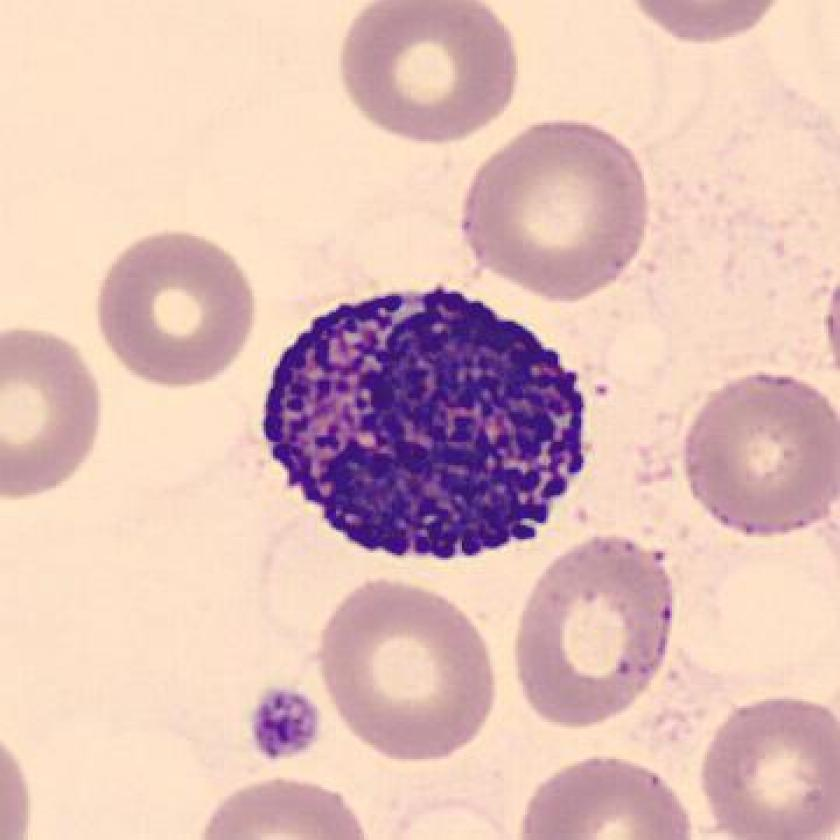basophil: (258, 279, 598, 573)
